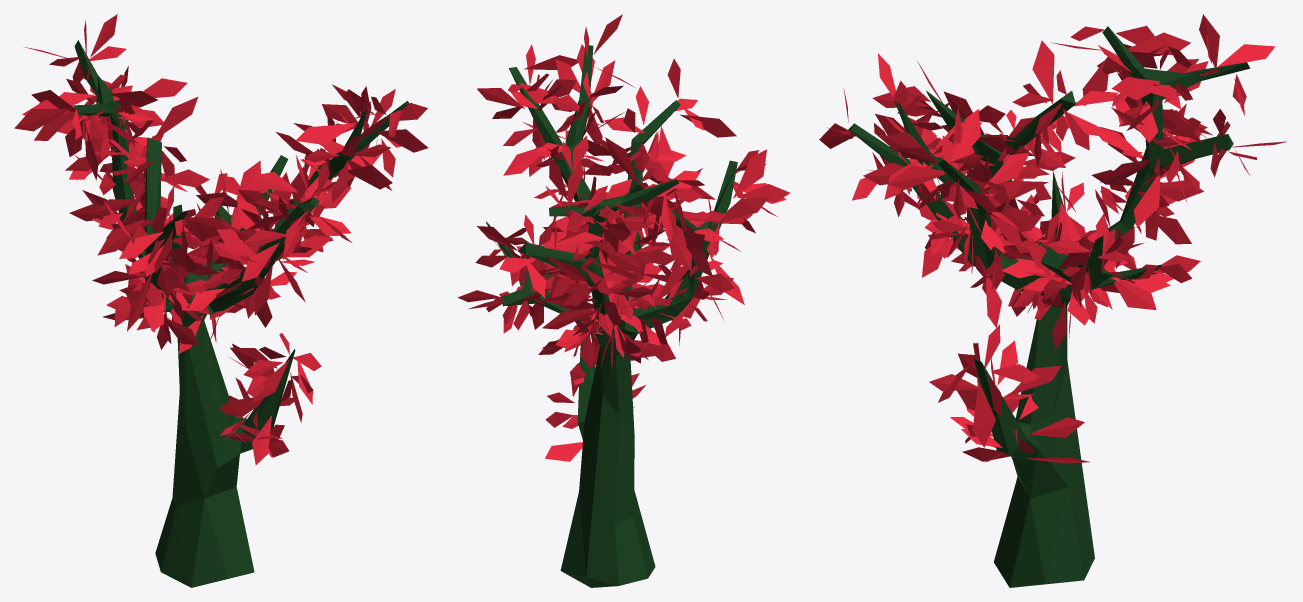
3 views of the same model, side by side, from view 1: azimuth 30°, elevation 25°; view 2: azimuth 150°, elevation 25°; view 3: azimuth 270°, elevation 25° (orthographic). The views are drawn at different scales.
Visible parts, largest first — view 1: Drzewo2.001; view 2: Drzewo2.001; view 3: Drzewo2.001.
Boxes of the visible parts, x1,y1,x2,y2 form: Drzewo2.001: [14, 14, 428, 587]; Drzewo2.001: [457, 14, 790, 587]; Drzewo2.001: [819, 14, 1286, 587].
Size of the model in its own units: 1550 by 2572 by 1969.
